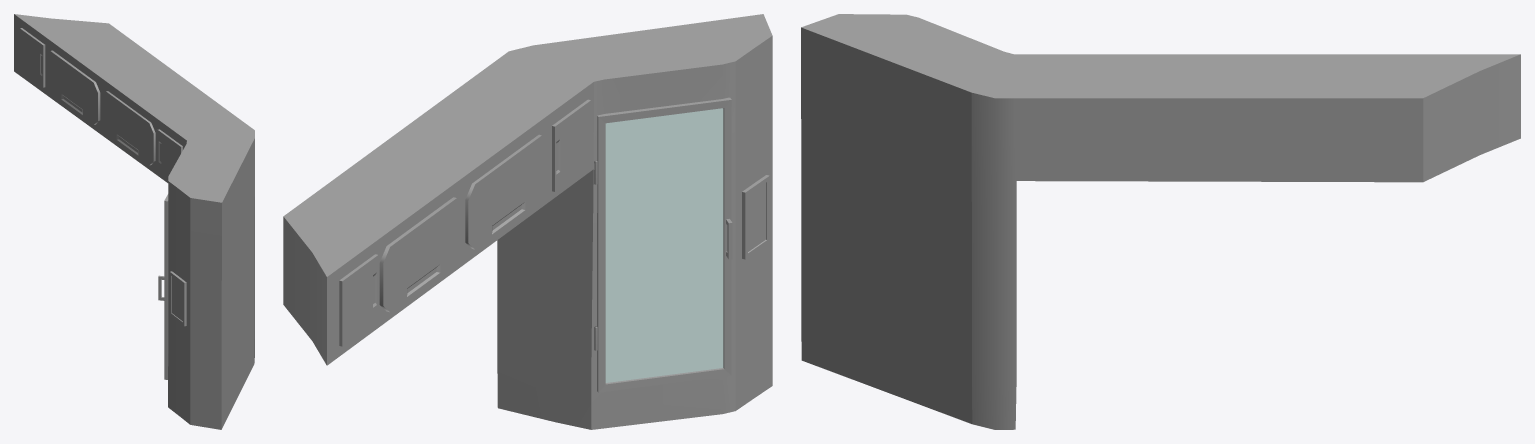
File: WorkCabinets.fbx
The picture shows the model from 3 angles, left to right: view 1: azimuth 30°, elevation 25°; view 2: azimuth 150°, elevation 25°; view 3: azimuth 270°, elevation 25°; orthographic projection. The views are drawn at different scales.
Visible parts, largest first — view 1: pCube71; view 2: pCube71; view 3: pCube71.
Part boxes in pixels (<box>): pCube71: <box>14,14,254,429</box>; pCube71: <box>283,14,772,429</box>; pCube71: <box>801,14,1520,429</box>.
Size of the model in its own units: 170 by 305 by 598.
